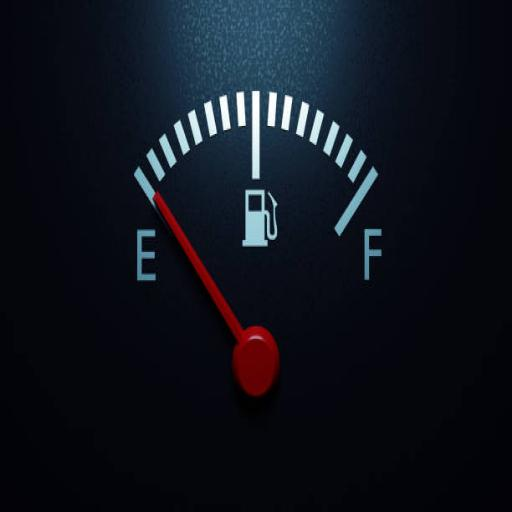empty: (133, 226, 157, 285)
fuel_icon: (241, 180, 277, 252)
full: (361, 223, 383, 282)
guage_area: (114, 93, 387, 417)
needle_center: (230, 314, 284, 400), (148, 183, 173, 220)
